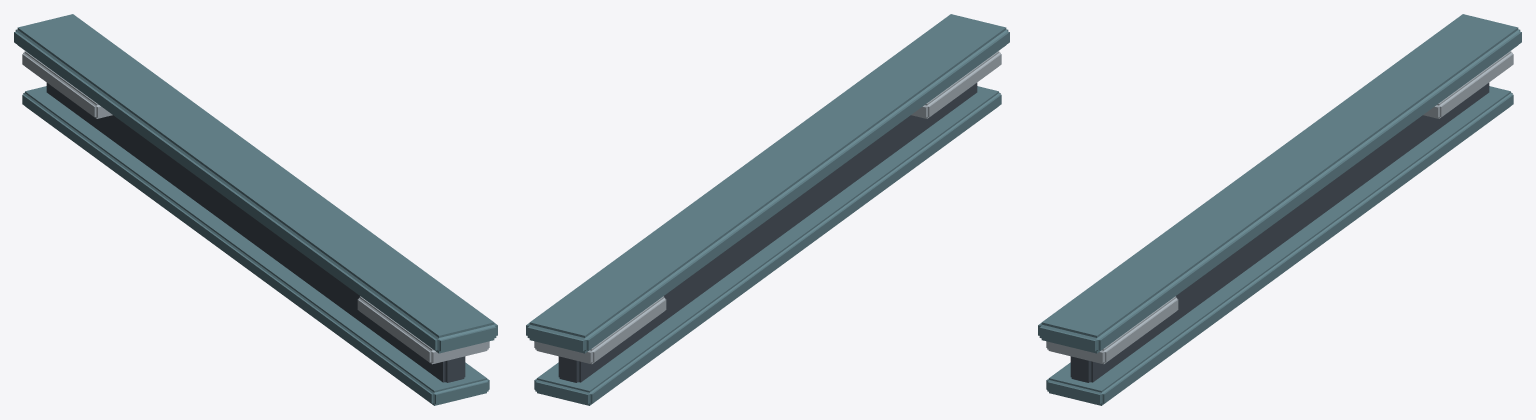
File: SM_TrackTie.glb
3 views of the same model, side by side, from view 1: azimuth 30°, elevation 25°; view 2: azimuth 150°, elevation 25°; view 3: azimuth 330°, elevation 25° (orthographic).
Visible parts, largest first — view 1: VC_ENVKIT_Tie_UpperFlange, VC_ENVKIT_Tie_LowerFlange, VC_ENVKIT_Tie_SectionWeb, VC_ENVKIT_Tie_RailSeat, VC_ENVKIT_Tie_RailSeat.001; view 2: VC_ENVKIT_Tie_UpperFlange, VC_ENVKIT_Tie_LowerFlange, VC_ENVKIT_Tie_SectionWeb, VC_ENVKIT_Tie_RailSeat.001, VC_ENVKIT_Tie_RailSeat; view 3: VC_ENVKIT_Tie_UpperFlange, VC_ENVKIT_Tie_LowerFlange, VC_ENVKIT_Tie_SectionWeb, VC_ENVKIT_Tie_RailSeat, VC_ENVKIT_Tie_RailSeat.001.
Part boxes in pixels (left/top/right/bottom): VC_ENVKIT_Tie_UpperFlange: left=14, top=14, right=497, bottom=353; VC_ENVKIT_Tie_LowerFlange: left=22, top=86, right=489, bottom=405; VC_ENVKIT_Tie_SectionWeb: left=46, top=83, right=465, bottom=382; VC_ENVKIT_Tie_RailSeat: left=357, top=296, right=489, bottom=364; VC_ENVKIT_Tie_RailSeat.001: left=22, top=51, right=112, bottom=118; VC_ENVKIT_Tie_UpperFlange: left=526, top=14, right=1009, bottom=353; VC_ENVKIT_Tie_LowerFlange: left=534, top=86, right=1001, bottom=405; VC_ENVKIT_Tie_SectionWeb: left=558, top=83, right=977, bottom=382; VC_ENVKIT_Tie_RailSeat.001: left=534, top=296, right=666, bottom=364; VC_ENVKIT_Tie_RailSeat: left=911, top=51, right=1001, bottom=118; VC_ENVKIT_Tie_UpperFlange: left=1038, top=14, right=1521, bottom=353; VC_ENVKIT_Tie_LowerFlange: left=1046, top=86, right=1513, bottom=405; VC_ENVKIT_Tie_SectionWeb: left=1070, top=83, right=1489, bottom=382; VC_ENVKIT_Tie_RailSeat: left=1046, top=296, right=1178, bottom=364; VC_ENVKIT_Tie_RailSeat.001: left=1423, top=51, right=1513, bottom=118.
Size of the model in its own units: 0.14 by 0.16 by 1.65.
